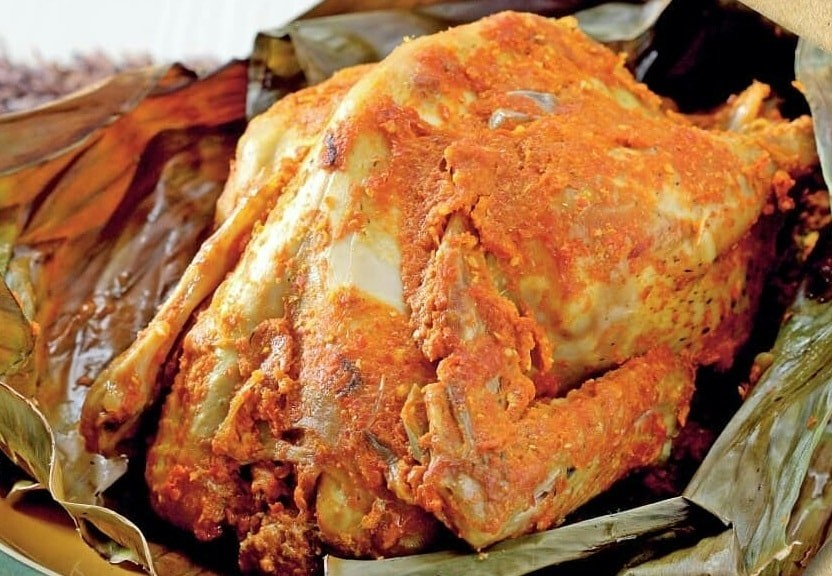ayam_betutu: (79, 11, 809, 553)
